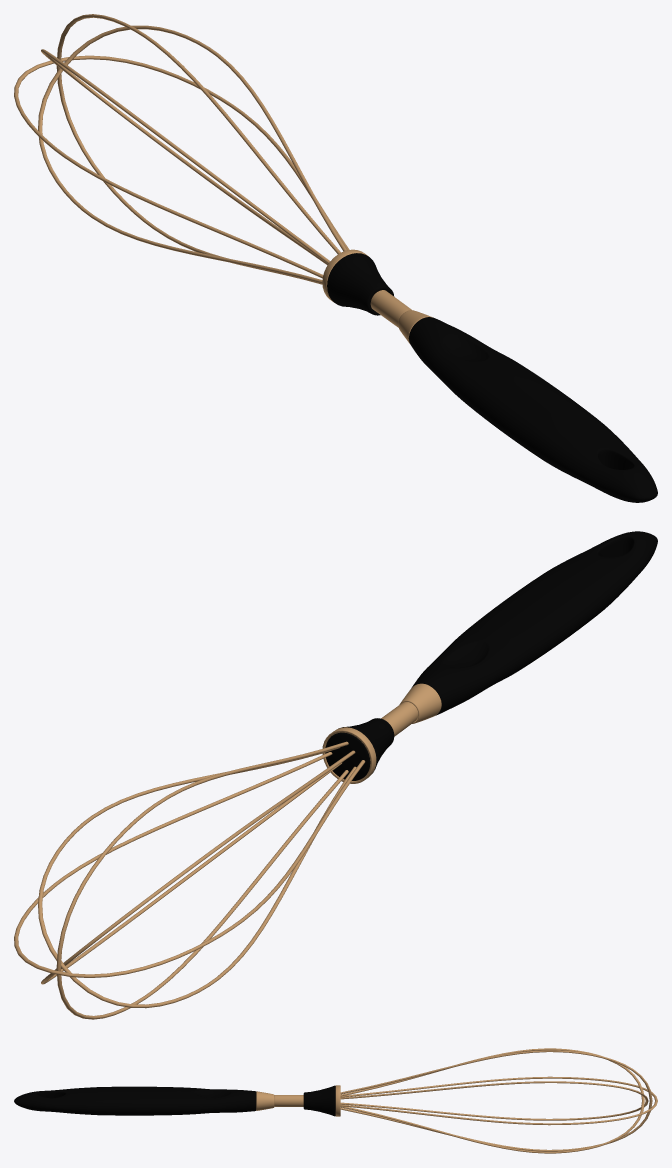
Rendered from Whisk.obj.
3 views of the same model, one above another, from view 1: azimuth 30°, elevation 25°; view 2: azimuth 150°, elevation 25°; view 3: azimuth 270°, elevation 25° (orthographic). The views are drawn at different scales.
Visible parts, largest first — view 1: Plane.009; view 2: Plane.009; view 3: Plane.009.
Boxes of the visible parts, x1,y1,x2,y2 form: Plane.009: [14, 14, 657, 502]; Plane.009: [14, 531, 657, 1019]; Plane.009: [14, 1048, 657, 1153].
Bounding box in the file's own units: 16.4 × 16.35 × 94.22.
